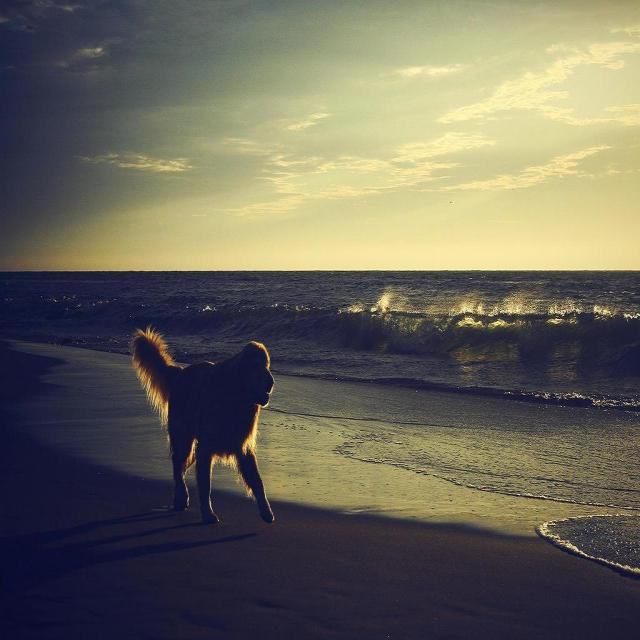dog: (128, 329, 282, 540)
